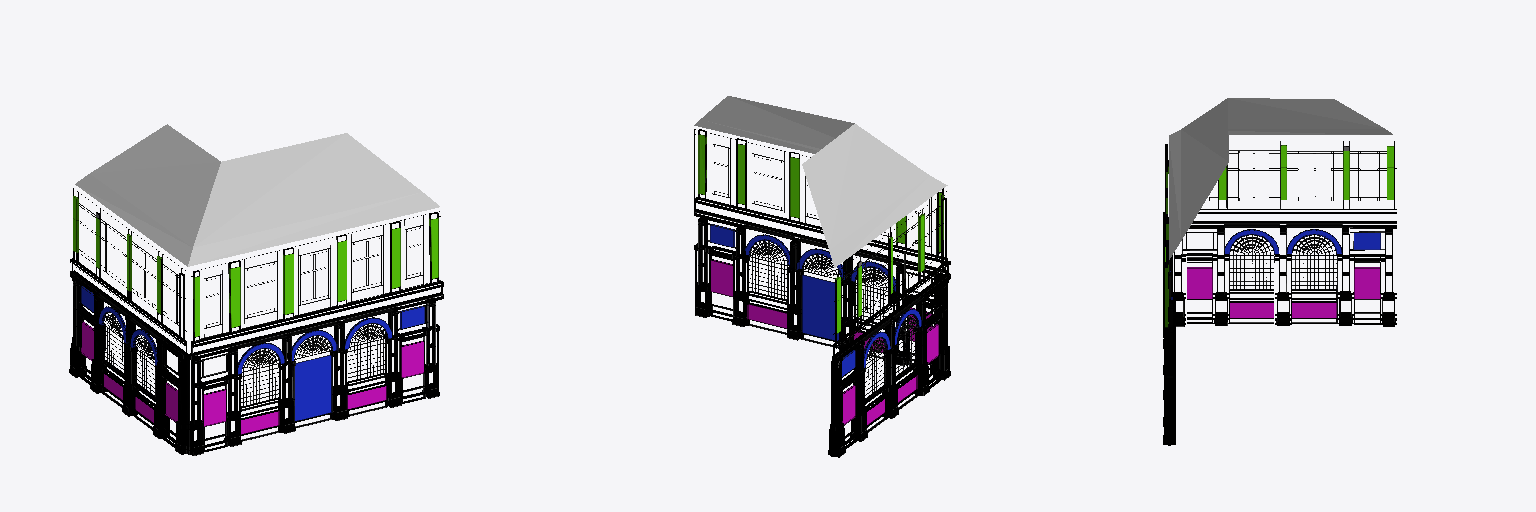
3 renders of one model, left to right at view 1: azimuth 30°, elevation 25°; view 2: azimuth 150°, elevation 25°; view 3: azimuth 270°, elevation 25°, orthographic.
Visible parts, largest first — view 1: roof_Plane.008, joined.south.wall_Cube.251, joined.west.wall_Cube.170; view 2: joined.south.wall_Cube.251, roof_Plane.008, joined.west.wall_Cube.170; view 3: joined.west.wall_Cube.170, roof_Plane.008, joined.south.wall_Cube.251.
Part boxes in pixels (bbox=[...]): roof_Plane.008: bbox=[75, 124, 439, 266]; joined.south.wall_Cube.251: bbox=[188, 211, 443, 455]; joined.west.wall_Cube.170: bbox=[69, 188, 190, 454]; joined.south.wall_Cube.251: bbox=[694, 129, 947, 372]; roof_Plane.008: bbox=[694, 96, 947, 267]; joined.west.wall_Cube.170: bbox=[828, 191, 950, 457]; joined.west.wall_Cube.170: bbox=[1173, 141, 1396, 326]; roof_Plane.008: bbox=[1169, 98, 1392, 259]; joined.south.wall_Cube.251: bbox=[1163, 144, 1175, 445].
Bounding box in the file's own units: 12.49 × 11.82 × 9.81.
Materials: 2 (1 with a texture image).